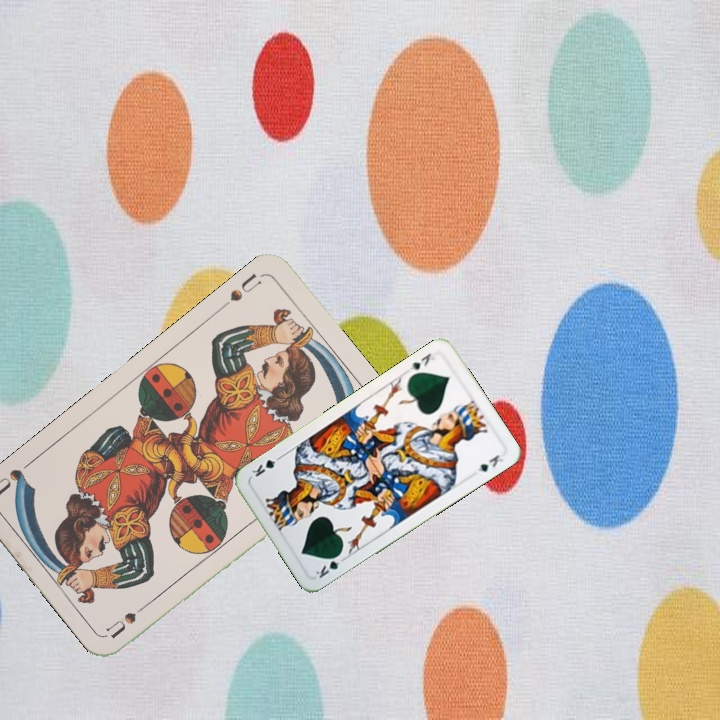GK: (310, 549, 348, 581), (406, 349, 439, 374)
SU: (103, 596, 156, 642), (226, 269, 265, 304)
